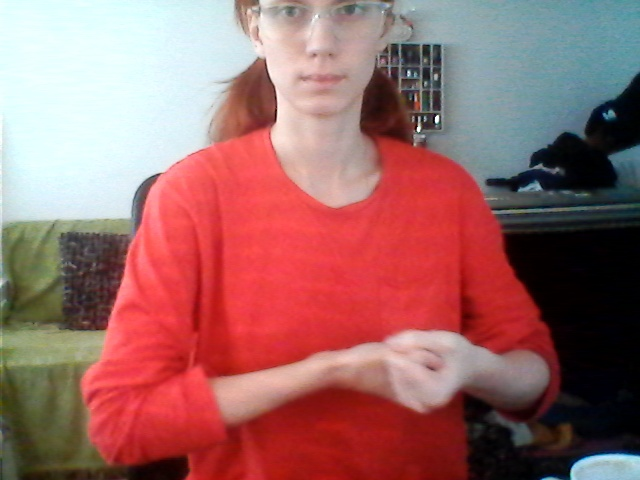hasic: (326, 301, 493, 436)
